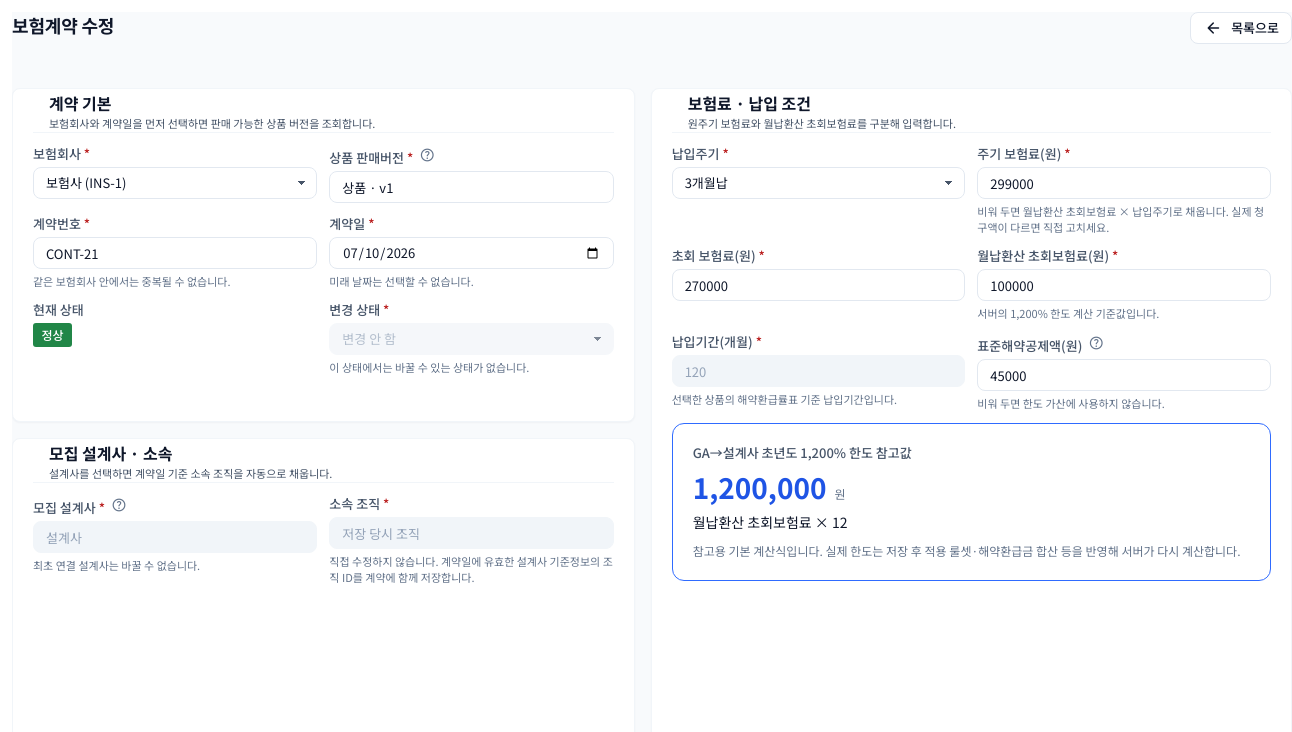
Test: [FGC-FUN-018] 보험계약 입력 안전성 › 규제 근거는 REG-07·08·12의 조문·판정 범위를 생략하지 않는다
The image size is (1292, 732).
Step 1. Click the button named "모집 설계사 근거" → (119, 505), box left=109, top=495, right=129, bottom=515
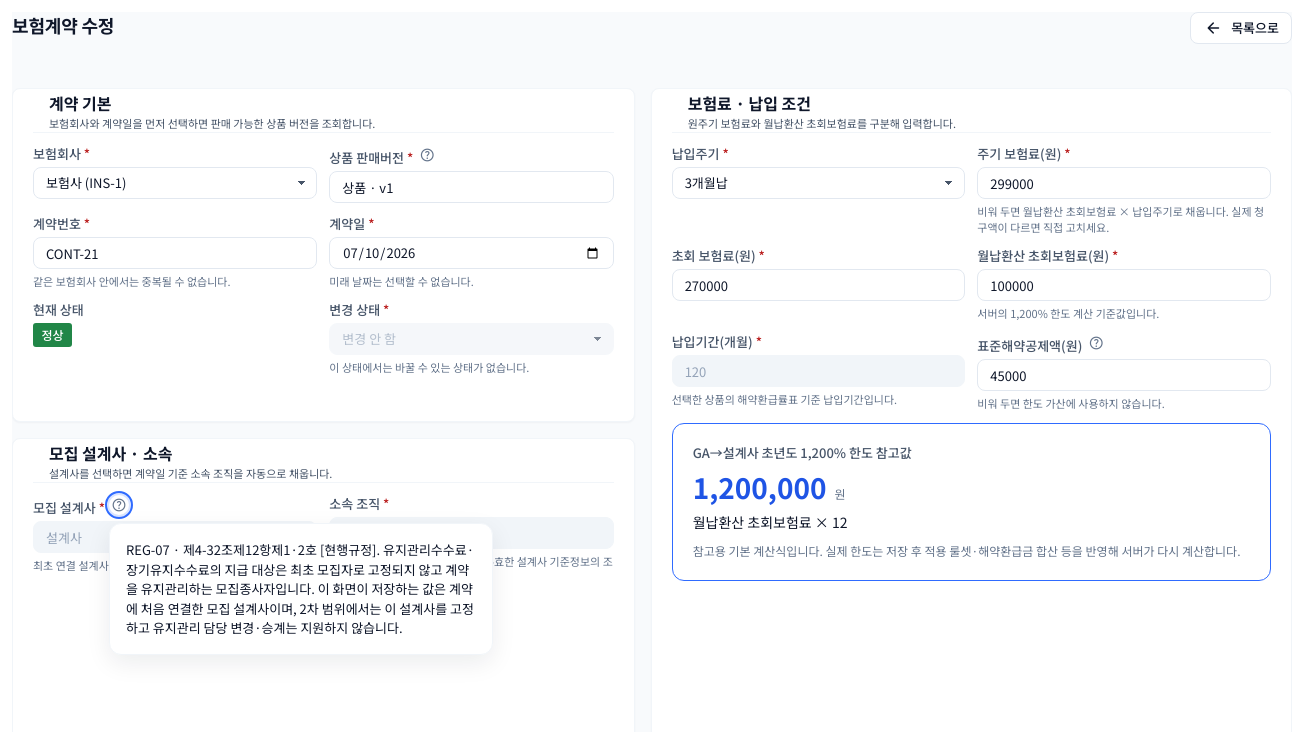
Expected: the tooltip shows "제4-32조제12항제1·2호 [현행규정]", left=126, top=540, right=474, bottom=637
Expected: the tooltip shows "유지관리수수료·장기유지수수료의 지급 대상은 최초 모집자로 고정되지 않고", left=126, top=540, right=474, bottom=637
Expected: the tooltip shows "2차 범위에서는 이 설계사를 고정하고 유지관리 담당 변경·승계는 지원하지 않습니다", left=126, top=540, right=474, bottom=637
Step 2. Click the button named "모집 설계사 근거" → (119, 505), box left=109, top=495, right=129, bottom=515
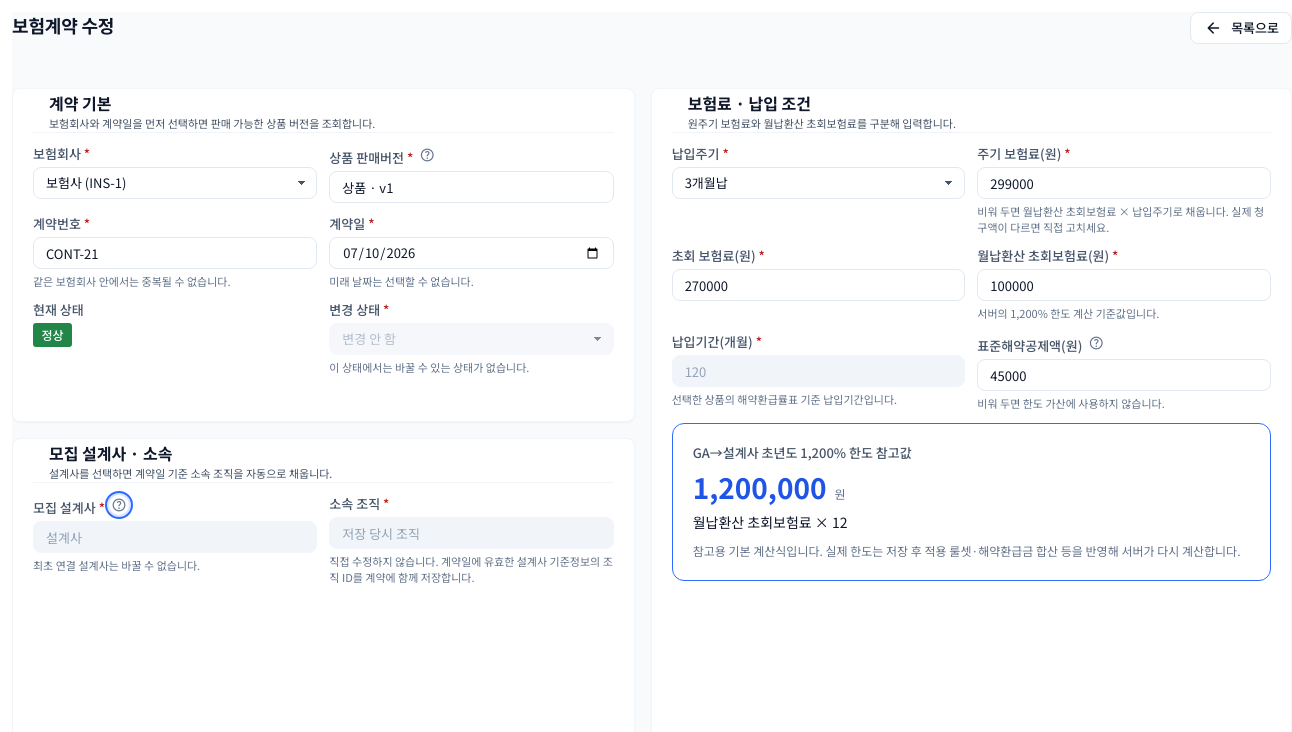
Step 3. Click the button named "표준해약공제액 근거" → (1096, 343), box left=1086, top=333, right=1106, bottom=353
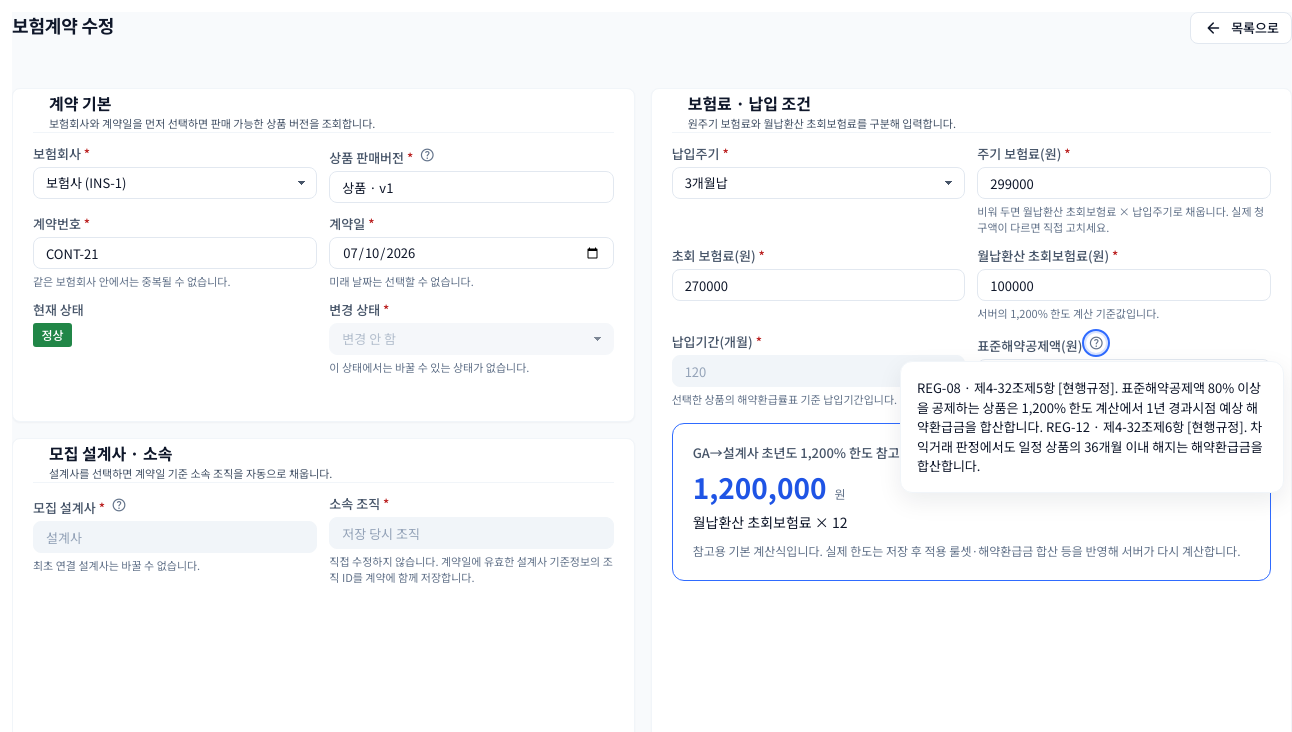
Expected: the tooltip shows "REG-08 · 제4-32조제5항 [현행규정]", left=917, top=378, right=1263, bottom=475
Expected: the tooltip shows "1,200% 한도 계산에서", left=917, top=378, right=1263, bottom=475
Expected: the tooltip shows "REG-12 · 제4-32조제6항 [현행규정]", left=917, top=378, right=1263, bottom=475
